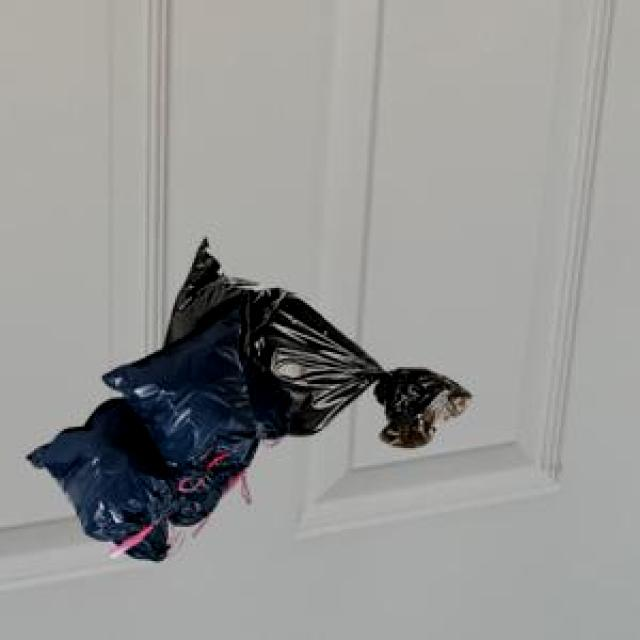Trashbag: (140, 328, 253, 460), (36, 411, 154, 536)
